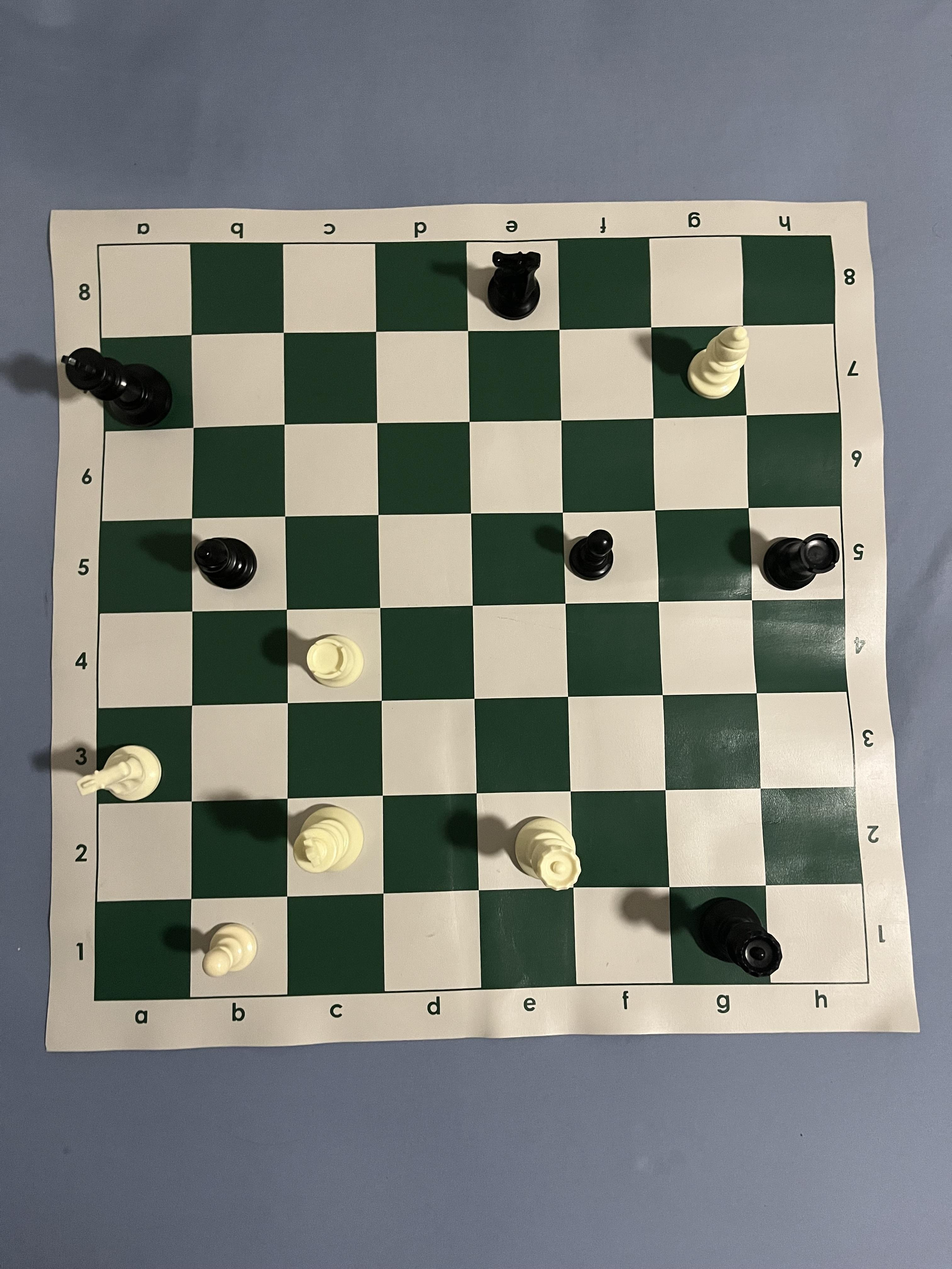black_bishop: (193, 537, 258, 590)
black_king: (61, 347, 172, 427)
black_knight: (487, 251, 542, 321)
black_pawn: (567, 529, 614, 582)
black_queen: (697, 897, 783, 979)
black_rook: (762, 532, 841, 592)
white_bishop: (687, 325, 750, 399)
white_king: (293, 805, 365, 874)
white_knight: (75, 744, 163, 803)
white_pawn: (202, 922, 258, 978)
white_queen: (514, 816, 581, 892)
white_rook: (306, 633, 365, 688)
